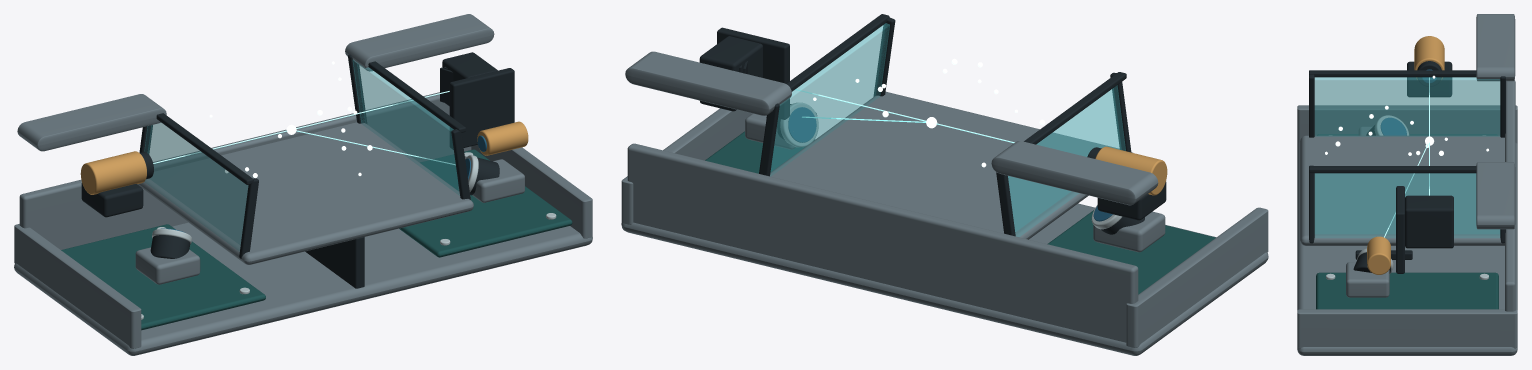
Rendered from Air_Sensor_Latest.glb.
The picture shows the model from 3 angles, left to right: view 1: azimuth 30°, elevation 25°; view 2: azimuth 150°, elevation 25°; view 3: azimuth 270°, elevation 25°; orthographic projection. The views are drawn at different scales.
Visible parts, largest first — view 1: Air channel floor | sealed roof over electronics, Cutaway chassis lower shell, Rear casing section, Dry electronics board, W1 | sealed reverse-raked optical facet, Dry electronics board.001, W2 | sealed reverse-raked optical facet, Sectioned sidewall | lower remnant, Sectioned roof | rear remnant, Sectioned roof | rear remnant.001, Trap optical shield toward C2, Sectioned sidewall | lower remnant.001 (+15 smaller); view 2: Rear casing section, Air channel floor | sealed roof over electronics, Cutaway chassis lower shell, W2 | sealed reverse-raked optical facet, Sectioned sidewall | lower remnant, Sectioned roof | rear remnant, Sectioned roof | rear remnant.001, W1 | sealed reverse-raked optical facet, Dry electronics board, Sectioned sidewall | lower remnant.001, Main beam trap | black absorption cavity, Dry electronics board.001 (+13 smaller); view 3: Air channel floor | sealed roof over electronics, W1 | sealed reverse-raked optical facet, Sectioned sidewall | lower remnant.001, W2 | sealed reverse-raked optical facet, Cutaway chassis lower shell, Dry electronics board.001, Sectioned sidewall | lower remnant, Sectioned roof | rear remnant.001, Sectioned roof | rear remnant, Main beam trap | black absorption cavity, Rear casing section, Window gasket rail.003 (+14 smaller).
Boxes of the visible parts, box(x1,y1,x2,y2) form: Air channel floor | sealed roof over electronics: box(137, 122, 473, 264); Cutaway chassis lower shell: box(14, 222, 592, 355); Rear casing section: box(19, 92, 471, 249); Dry electronics board: box(61, 224, 265, 330); W1 | sealed reverse-raked optical facet: box(144, 122, 248, 251); Dry electronics board.001: box(399, 149, 572, 257); W2 | sealed reverse-raked optical facet: box(352, 60, 459, 195); Sectioned sidewall | lower remnant: box(14, 224, 141, 348); Sectioned roof | rear remnant: box(17, 94, 166, 151); Sectioned roof | rear remnant.001: box(345, 14, 494, 71); Trap optical shield toward C2: box(449, 68, 514, 149); Sectioned sidewall | lower remnant.001: box(471, 144, 592, 238); Rear casing section: box(627, 143, 1138, 342); Air channel floor | sealed roof over electronics: box(770, 91, 1132, 239); Cutaway chassis lower shell: box(621, 203, 1268, 355); W2 | sealed reverse-raked optical facet: box(770, 23, 889, 176); Sectioned sidewall | lower remnant: box(1126, 207, 1268, 347); Sectioned roof | rear remnant: box(991, 141, 1158, 205); Sectioned roof | rear remnant.001: box(625, 51, 791, 115); W1 | sealed reverse-raked optical facet: box(1008, 85, 1125, 236); Dry electronics board: box(1047, 210, 1215, 294); Sectioned sidewall | lower remnant.001: box(621, 108, 752, 224); Main beam trap | black absorption cavity: box(699, 36, 762, 111); Dry electronics board.001: box(705, 131, 814, 173); Air channel floor | sealed roof over electronics: box(1300, 135, 1504, 245); W1 | sealed reverse-raked optical facet: box(1314, 77, 1500, 136); Sectioned sidewall | lower remnant.001: box(1297, 309, 1517, 348); W2 | sealed reverse-raked optical facet: box(1314, 173, 1500, 237); Cutaway chassis lower shell: box(1297, 142, 1517, 355); Dry electronics board.001: box(1316, 272, 1498, 309); Sectioned sidewall | lower remnant: box(1297, 105, 1517, 143); Sectioned roof | rear remnant.001: box(1476, 162, 1515, 229); Sectioned roof | rear remnant: box(1476, 14, 1515, 81); Main beam trap | black absorption cavity: box(1405, 195, 1453, 248); Rear casing section: box(1505, 80, 1515, 311); Window gasket rail.003: box(1309, 166, 1476, 173).
Bounding box in the file's own units: 7.9 × 2.48 × 3.5.
